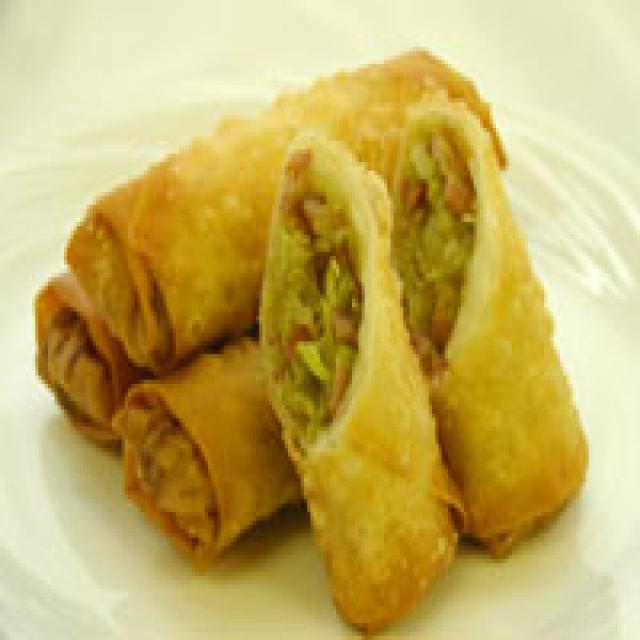鸡蛋料理: (29, 34, 598, 640)
